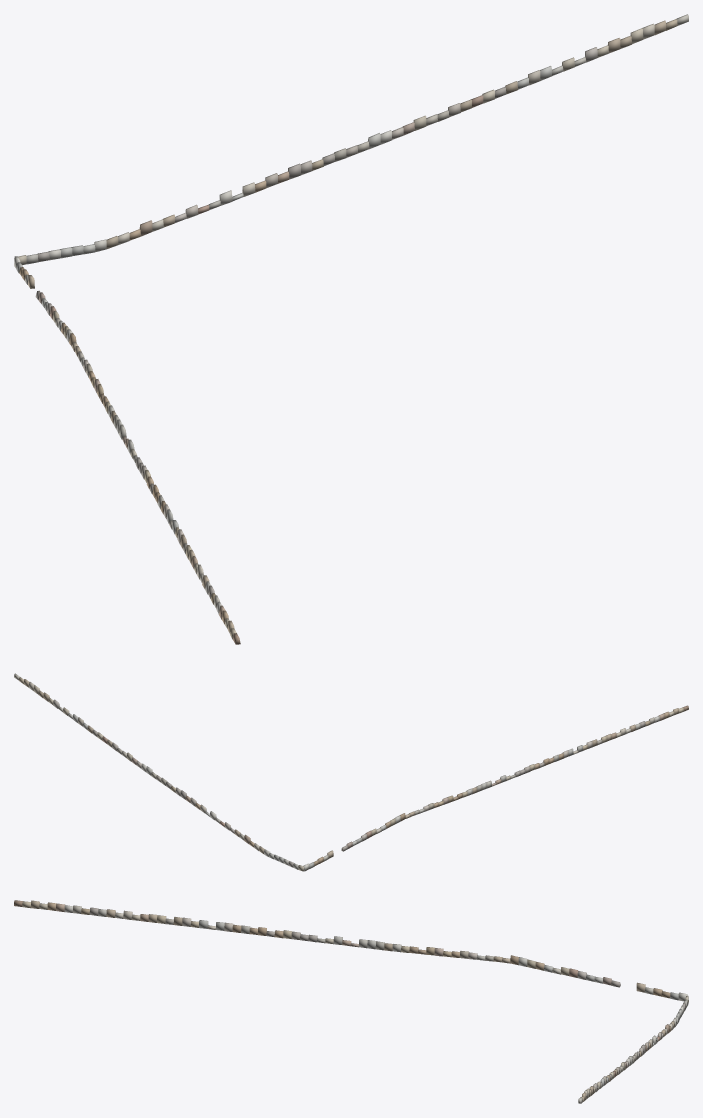
The model's file is farm_-1_15_far.glb.
The picture shows the model from 3 angles, top to bottom: view 1: azimuth 30°, elevation 25°; view 2: azimuth 150°, elevation 25°; view 3: azimuth 270°, elevation 25°; orthographic projection. The views are drawn at different scales.
Parts seen in each view (by area): view 1: geometry_0; view 2: geometry_0; view 3: geometry_0.
Part boxes in pixels (x1=…): geometry_0: x1=14, y1=14, x2=688, y2=644; geometry_0: x1=14, y1=673, x2=688, y2=871; geometry_0: x1=14, y1=900, x2=688, y2=1103.
Size of the model in its own units: 129 by 23.35 by 123.
